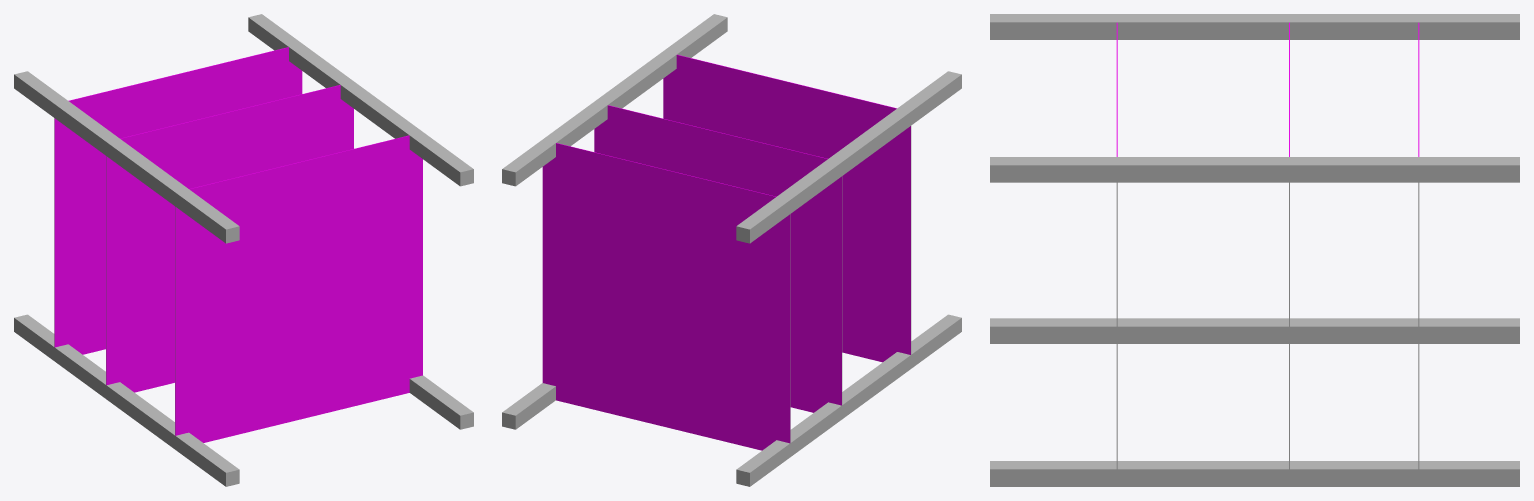
The model's file is shelf.glb.
The picture shows the model from 3 angles, left to right: view 1: azimuth 30°, elevation 25°; view 2: azimuth 150°, elevation 25°; view 3: azimuth 270°, elevation 25°; orthographic projection. The views are drawn at different scales.
Parts seen in each view (by area): view 1: mesh3d_006, mesh3d_012, mesh3d_018, mesh3d_040, mesh3d_028, mesh3d_039, mesh3d_033, mesh3d_034, mesh3d_027, mesh3d_022, mesh3d_021; view 2: mesh3d_017, mesh3d_005, mesh3d_011, mesh3d_040, mesh3d_028, mesh3d_039, mesh3d_033, mesh3d_034, mesh3d_027, mesh3d_022, mesh3d_021; view 3: mesh3d_020, mesh3d_032, mesh3d_038, mesh3d_026, mesh3d_033, mesh3d_039, mesh3d_027, mesh3d_021, mesh3d_002, mesh3d_014.
Boxes of the visible parts, box(x1,y1,x2,y2) form: mesh3d_006: box(175, 135, 422, 442); mesh3d_012: box(106, 85, 353, 392); mesh3d_018: box(54, 47, 302, 354); mesh3d_040: box(14, 74, 225, 243); mesh3d_028: box(14, 318, 225, 486); mesh3d_039: box(14, 71, 238, 229); mesh3d_033: box(249, 14, 473, 172); mesh3d_034: box(248, 17, 460, 185); mesh3d_027: box(14, 314, 239, 472); mesh3d_022: box(409, 379, 460, 429); mesh3d_021: box(410, 375, 473, 415); mesh3d_017: box(542, 143, 790, 450); mesh3d_005: box(663, 55, 910, 362); mesh3d_011: box(594, 105, 841, 412); mesh3d_040: box(750, 74, 961, 243); mesh3d_028: box(750, 318, 961, 486); mesh3d_039: box(737, 71, 961, 229); mesh3d_033: box(502, 14, 726, 172); mesh3d_034: box(515, 17, 727, 185); mesh3d_027: box(736, 314, 961, 472); mesh3d_022: box(515, 386, 555, 429); mesh3d_021: box(502, 383, 555, 415); mesh3d_020: box(990, 469, 1519, 486); mesh3d_032: box(990, 165, 1519, 182); mesh3d_038: box(990, 22, 1519, 39); mesh3d_026: box(990, 326, 1519, 343); mesh3d_033: box(990, 157, 1519, 165); mesh3d_039: box(990, 14, 1519, 22); mesh3d_027: box(990, 318, 1519, 326); mesh3d_021: box(990, 461, 1519, 469); mesh3d_002: box(1116, 182, 1117, 469); mesh3d_014: box(1418, 182, 1419, 469).
Size of the model in its own units: 11.96 by 11.87 by 17.71.
